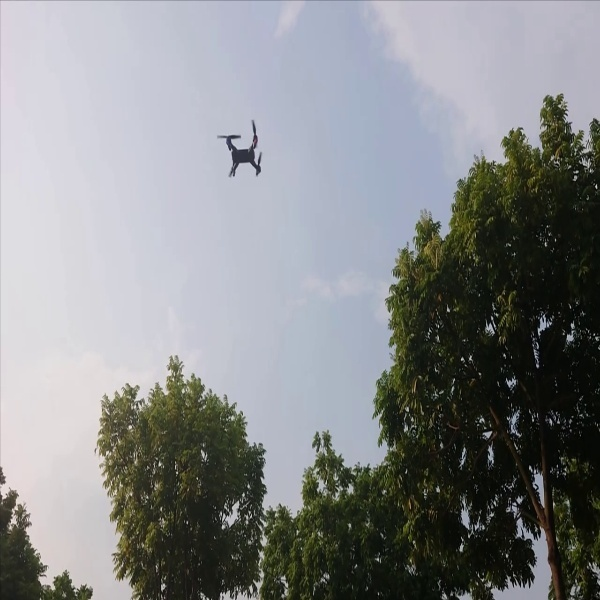drone: (213, 118, 272, 179)
